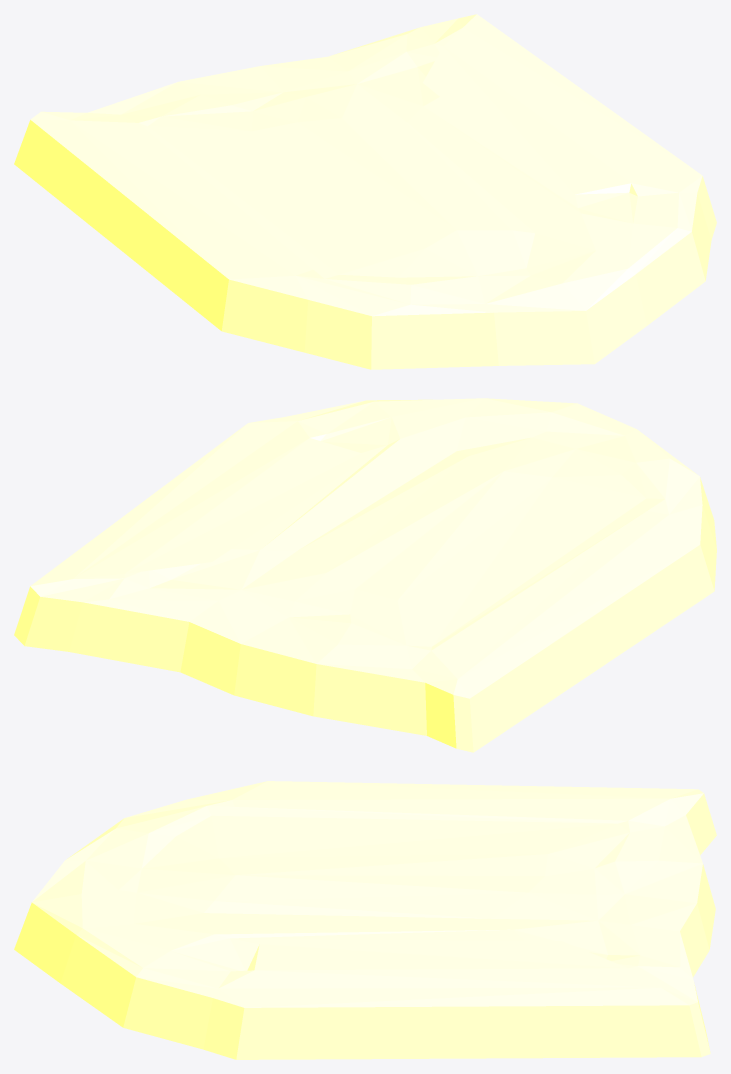
The model's file is SFHW_Chemney_Glow.fbx.
3 renders of one model, top to bottom at view 1: azimuth 30°, elevation 25°; view 2: azimuth 150°, elevation 25°; view 3: azimuth 270°, elevation 25°, orthographic.
Visible parts, largest first — view 1: SFHW_Chemney_Glow; view 2: SFHW_Chemney_Glow; view 3: SFHW_Chemney_Glow.
Boxes of the visible parts, x1,y1,x2,y2 form: SFHW_Chemney_Glow: [14, 14, 716, 369]; SFHW_Chemney_Glow: [14, 398, 716, 752]; SFHW_Chemney_Glow: [14, 781, 716, 1059].
Bounding box in the file's own units: 129 × 15.41 × 162.
